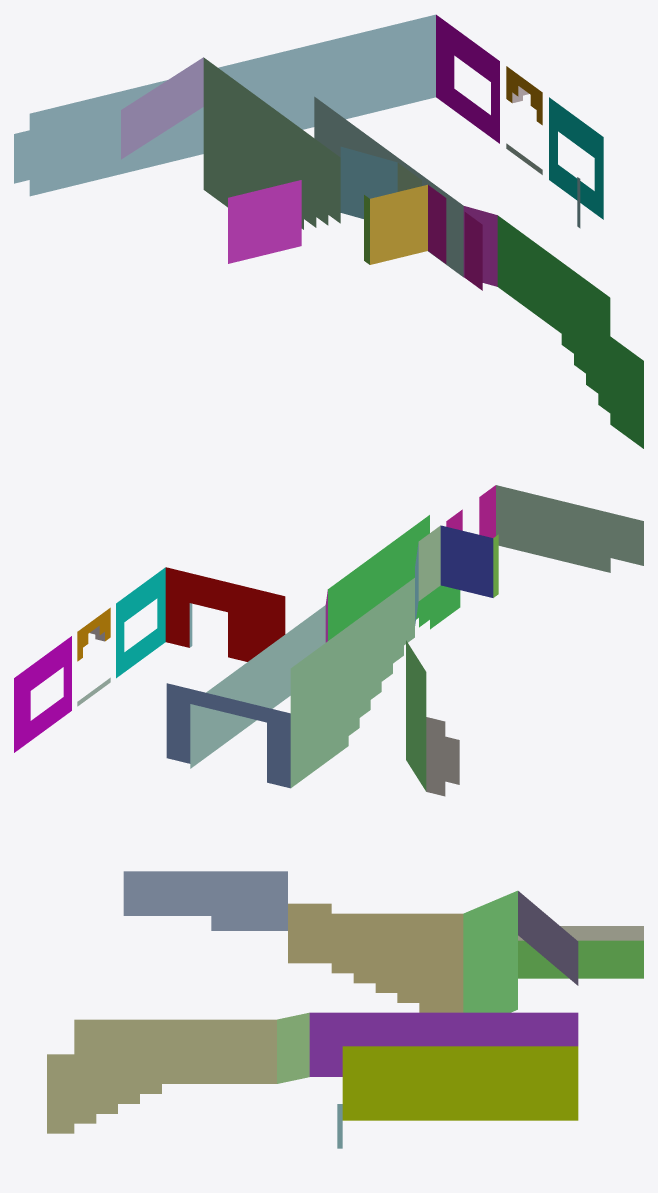
The model's file is brkgry01-2.gltf.
3 renders of one model, top to bottom at view 1: azimuth 30°, elevation 25°; view 2: azimuth 150°, elevation 25°; view 3: azimuth 270°, elevation 25°, orthographic. The views are drawn at different scales.
Parts seen in each view (by area): view 1: wal3; view 2: wal3; view 3: wal3.
Part boxes in pixels (bbox=[...]): wal3: bbox=[14, 14, 643, 448]; wal3: bbox=[14, 485, 643, 796]; wal3: bbox=[47, 871, 643, 1148].
Bounding box in the file's own units: 1312 × 592 × 1840.
